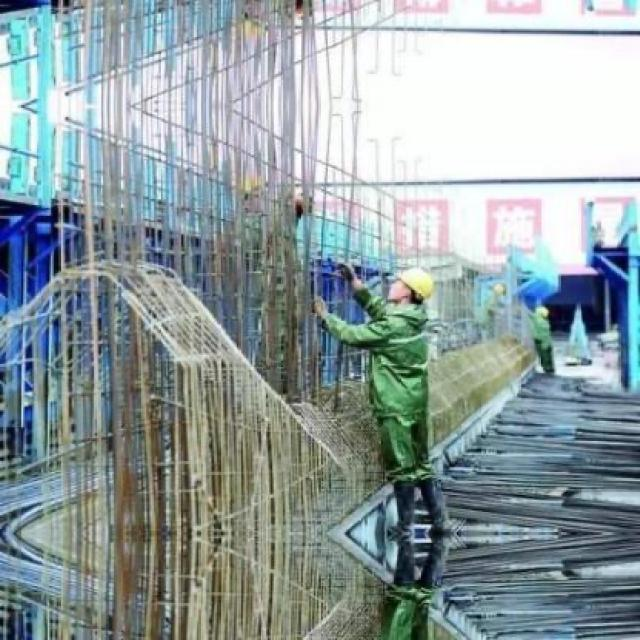helmet: (388, 268, 435, 306)
